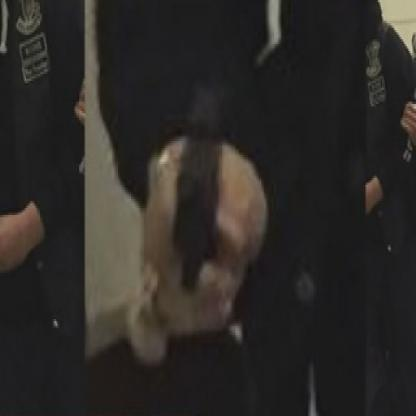gun: (142, 55, 246, 300)
